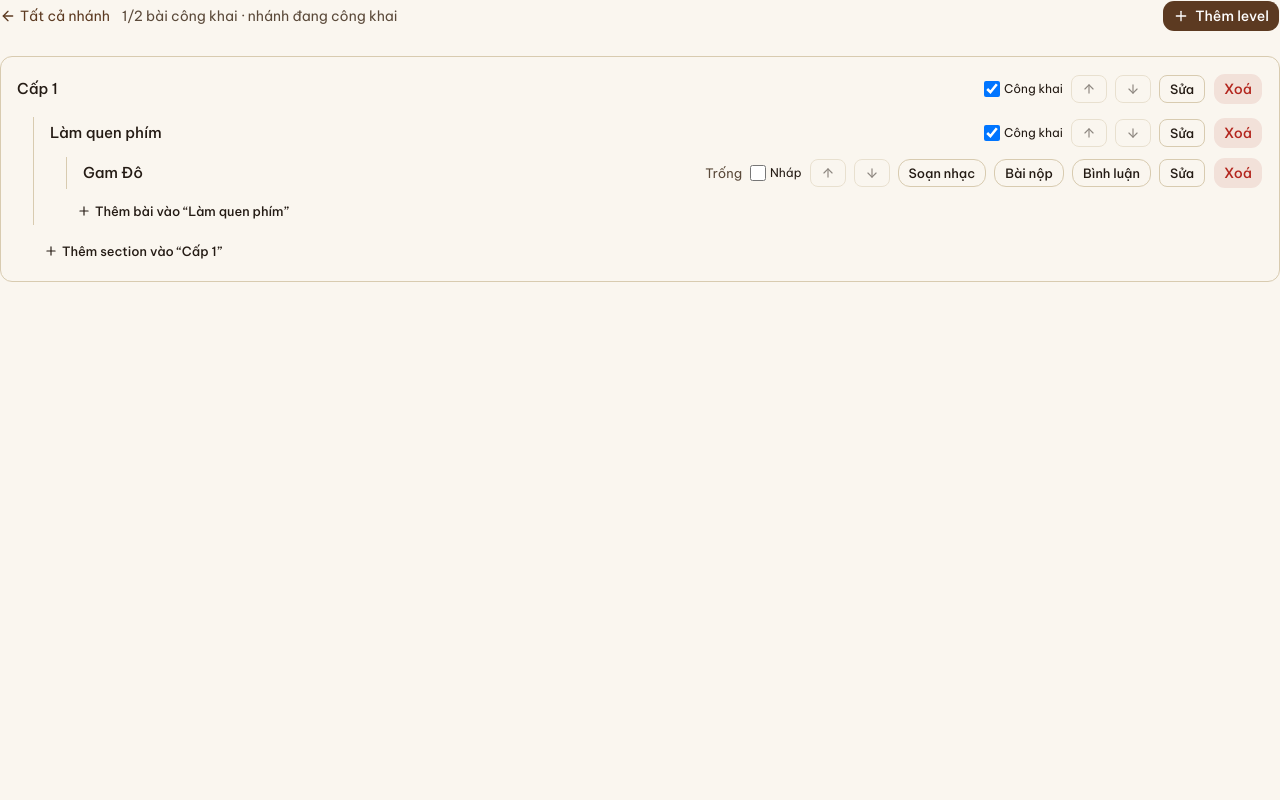
Test: Trình soạn cây một nhánh › bật công khai bài trống: hiện lỗi từ API ở nội dung; thời lượng sai bị chặn ở client
Step 1. Click the button with aria-label "Sửa Gam Đô" → (1182, 173), box [1159, 159, 1205, 187]
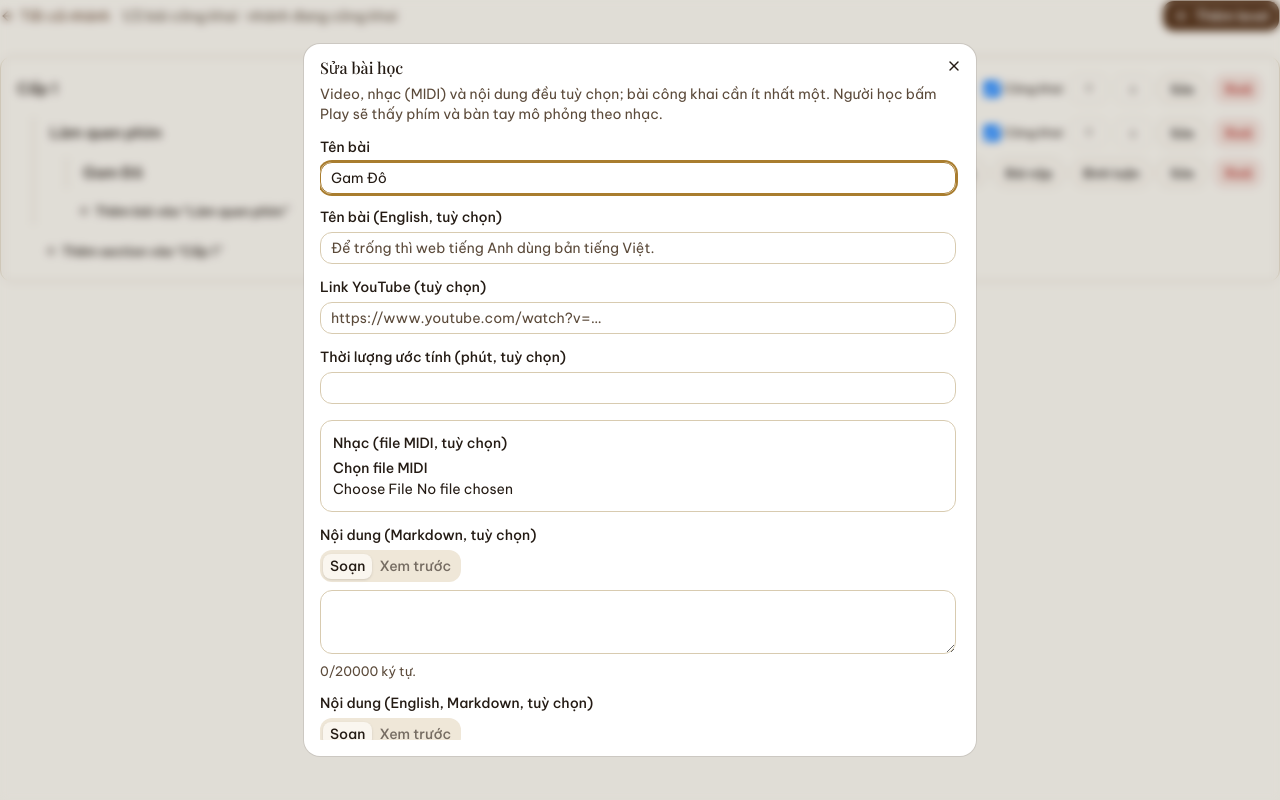
Step 2. Type "0" into the field labelled "Thời lượng ước tính (phút, tuỳ chọn)" → (638, 388), box [320, 372, 956, 404]
(page scrolled)
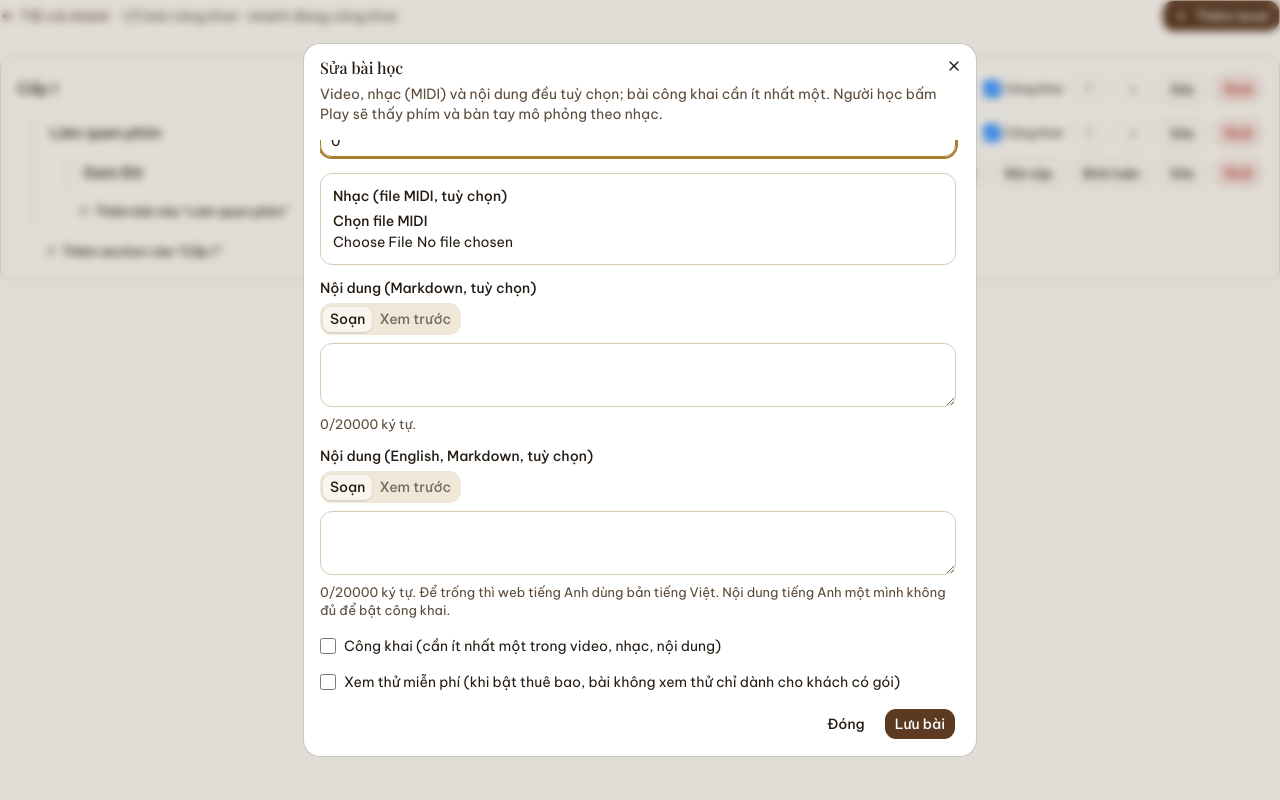
Step 3. Click the button "Lưu bài" → (920, 724), box [884, 708, 956, 740]
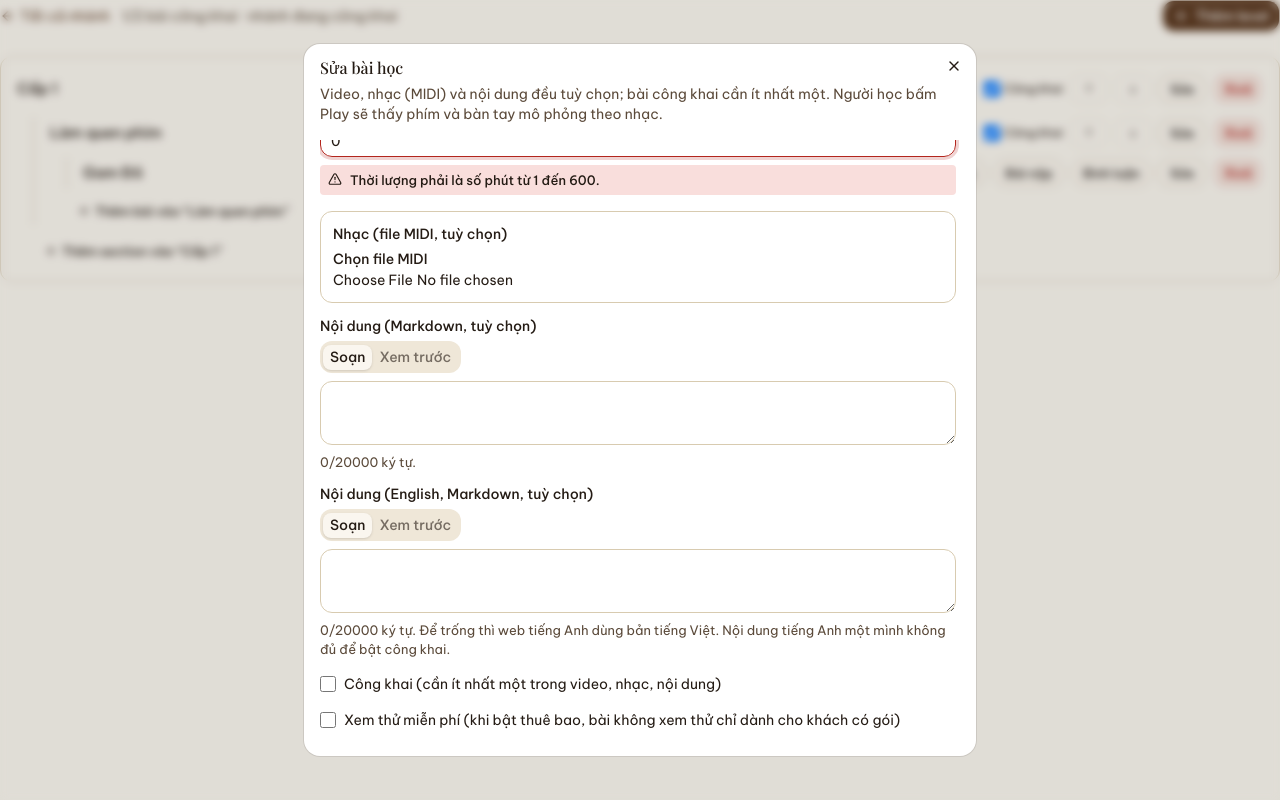
Expected: the text "Thời lượng phải là số phút từ 1 đến 600." is shown, [350, 171, 600, 189]
Step 4. Clear the field labelled "Thời lượng ước tính (phút, tuỳ chọn)" → (638, 141), box [320, 125, 956, 157]
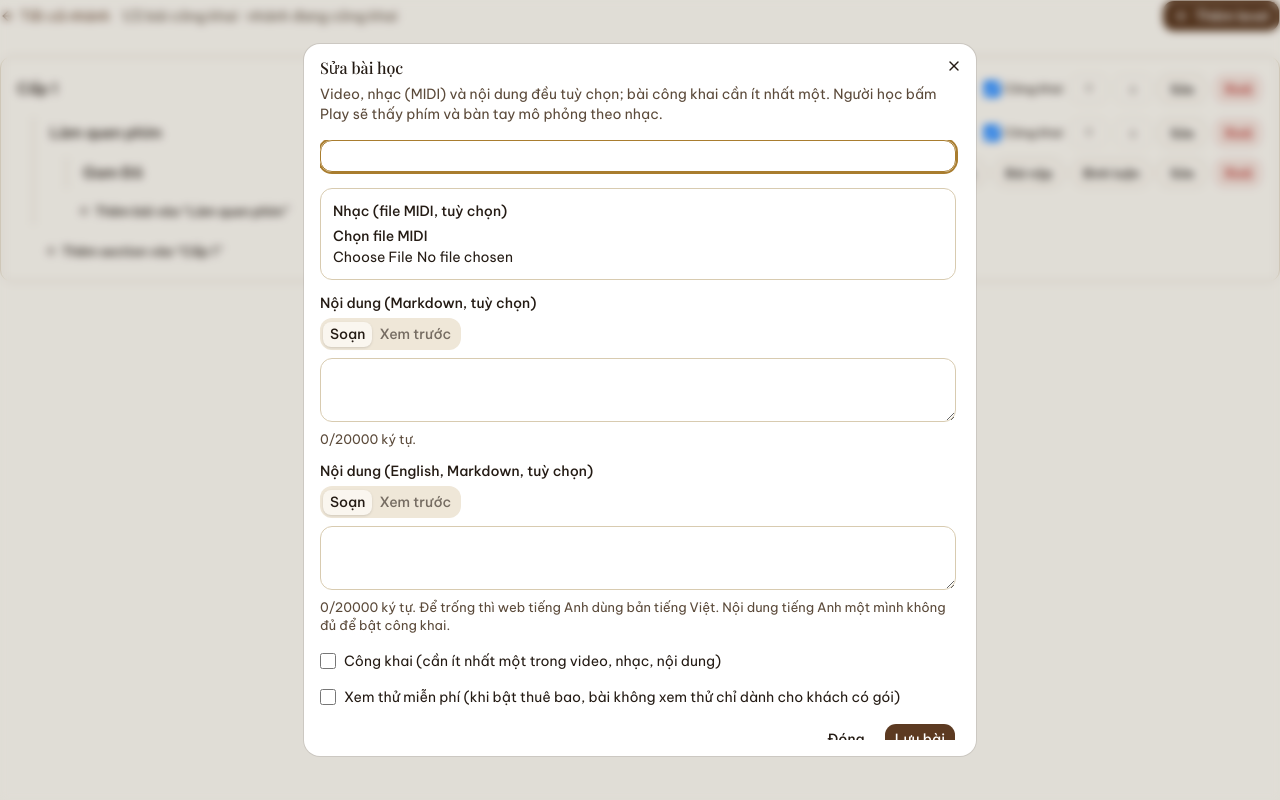
Step 5. Click the checkbox labelled "Công khai (cần ít nhất một trong video, nhạc, nội dung)" → (328, 661), box [320, 653, 336, 669]
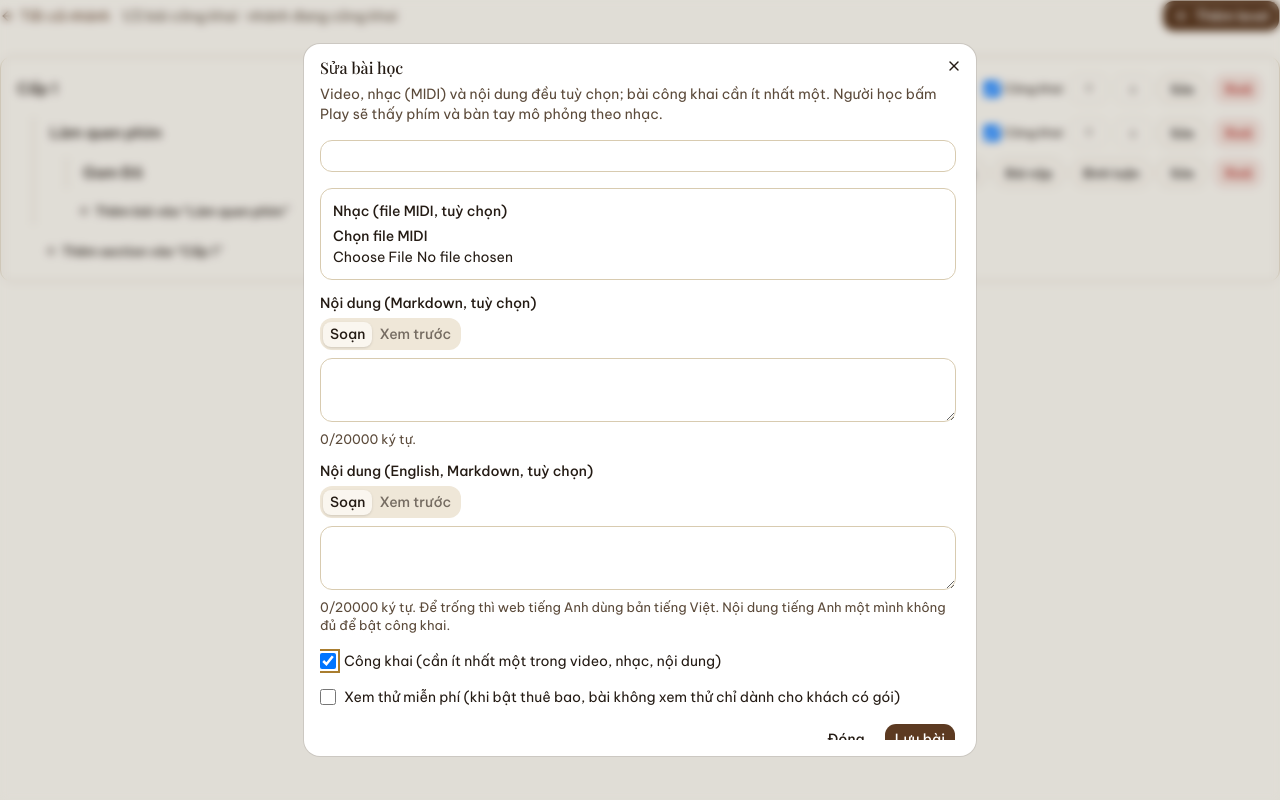
Step 6. Click the button "Lưu bài" → (920, 739), box [884, 723, 956, 755]
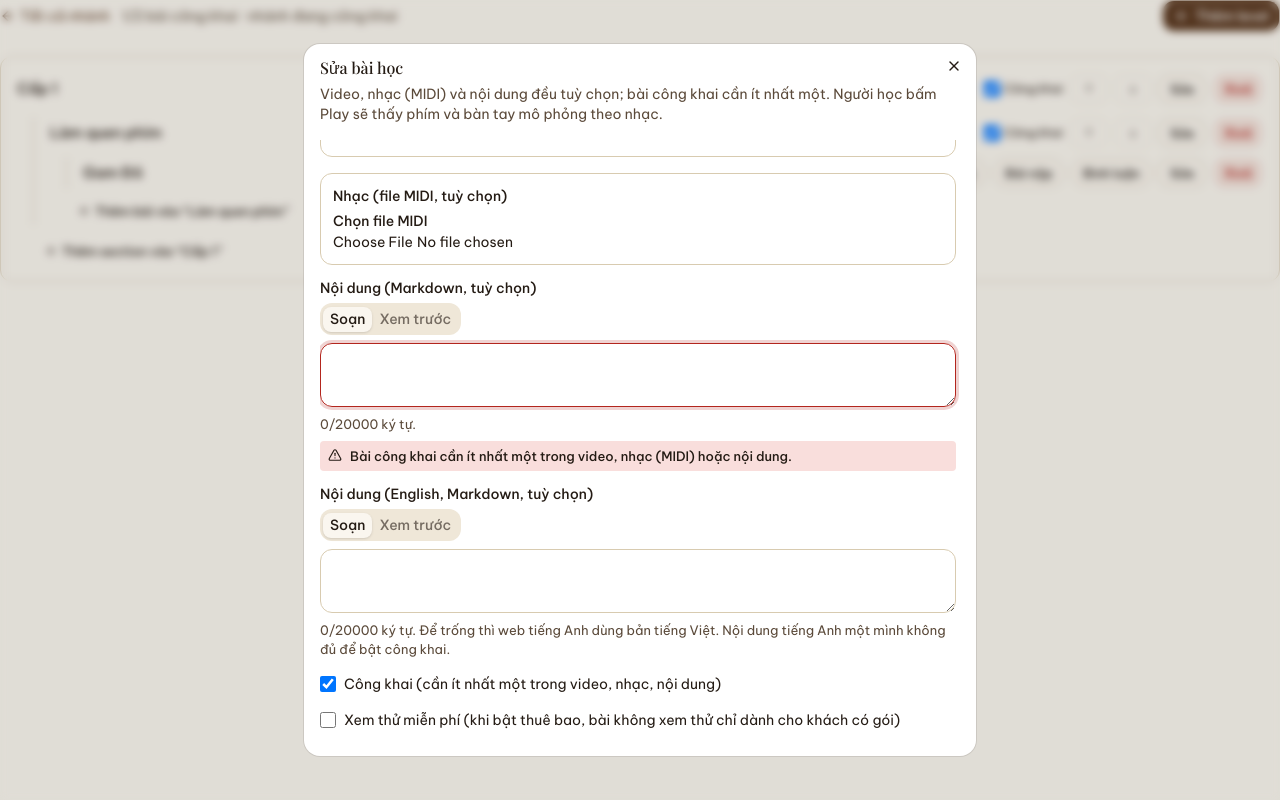
Expected: the text "Bài công khai cần ít nhất một" is shown, [350, 448, 792, 464]
